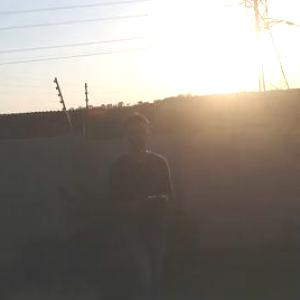follow: (101, 103, 180, 299)
